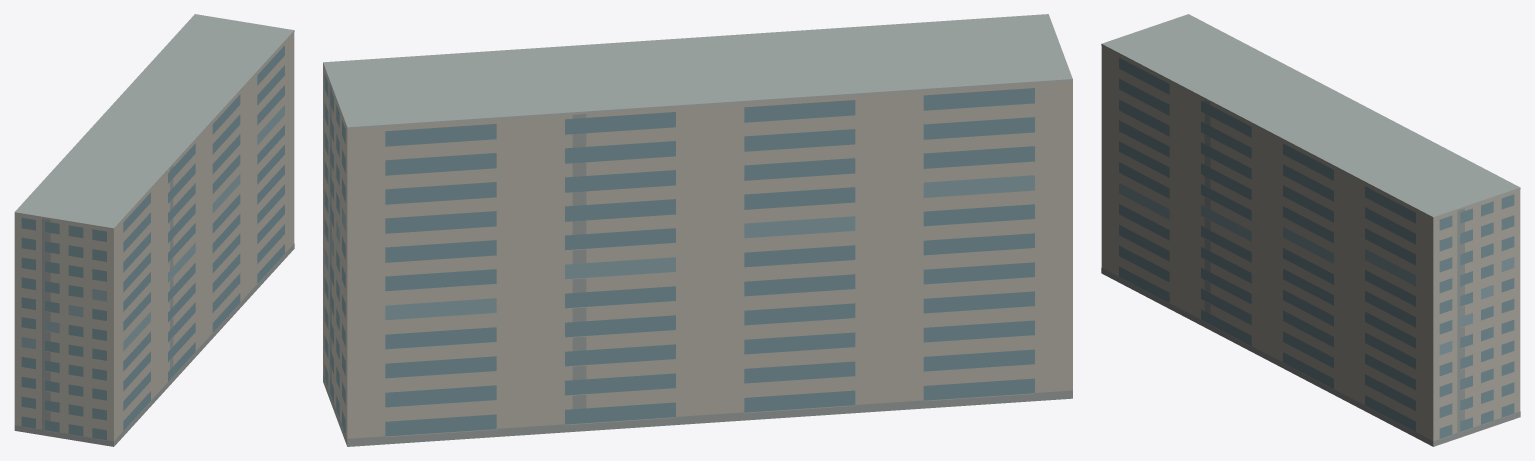
The model's file is residential-6b9403ac-594b-4622-8577-bca7cd097a25.glb.
3 renders of one model, left to right at view 1: azimuth 30°, elevation 25°; view 2: azimuth 150°, elevation 25°; view 3: azimuth 270°, elevation 25°, orthographic. The views are drawn at different scales.
Visible parts, largest first — view 1: residential-6b9403ac-594b-4622-8577-bca7cd097a25.tmp; view 2: residential-6b9403ac-594b-4622-8577-bca7cd097a25.tmp; view 3: residential-6b9403ac-594b-4622-8577-bca7cd097a25.tmp.
Part boxes in pixels (x1,y1,x2,y2): residential-6b9403ac-594b-4622-8577-bca7cd097a25.tmp: (14,14,294,446); residential-6b9403ac-594b-4622-8577-bca7cd097a25.tmp: (323,14,1072,446); residential-6b9403ac-594b-4622-8577-bca7cd097a25.tmp: (1101,14,1520,446).
Bounding box in the file's own units: 58.83 × 31 × 51.25.
